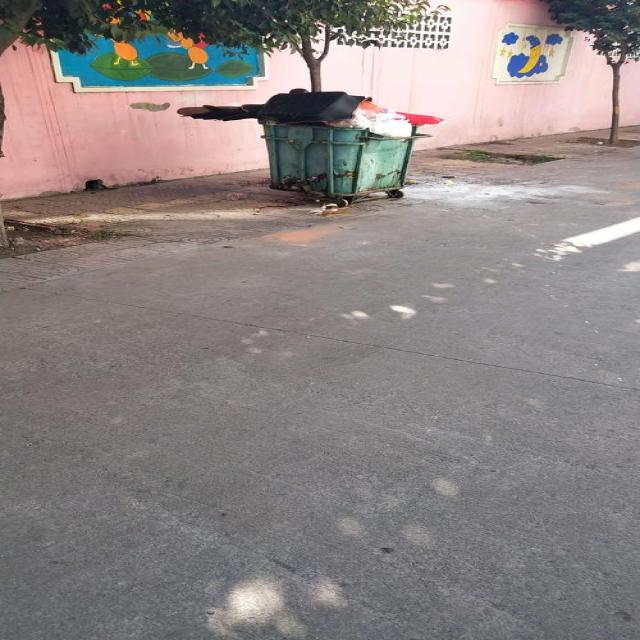overflow: (177, 86, 440, 195)
